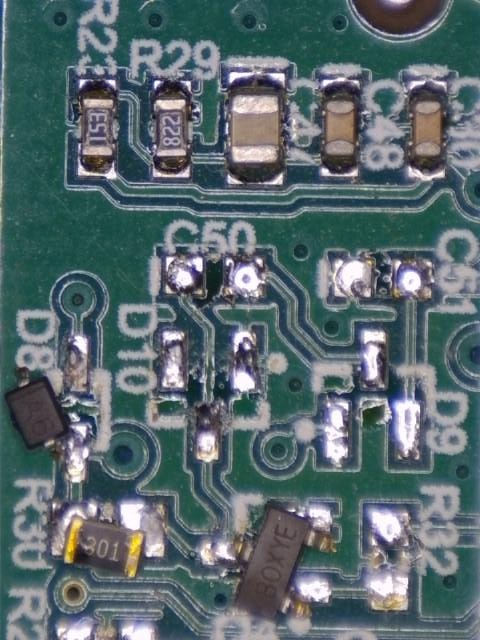pcb_defect: (199, 504, 335, 624), (5, 367, 88, 482), (51, 500, 167, 581)
